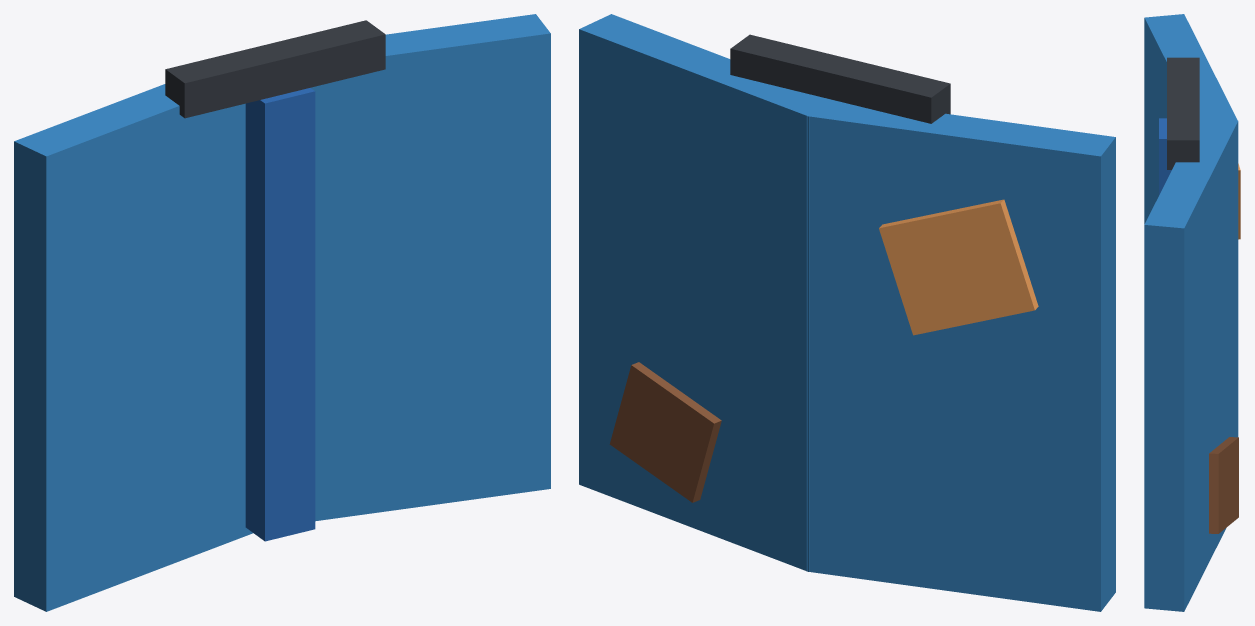
Rendered from FX_Scrap4_Hood.fbx.
3 views of the same model, side by side, from view 1: azimuth 30°, elevation 25°; view 2: azimuth 150°, elevation 25°; view 3: azimuth 270°, elevation 25° (orthographic). The views are drawn at different scales.
Parts seen in each view (by area): view 1: FX_Scrap4_Hood; view 2: FX_Scrap4_Hood; view 3: FX_Scrap4_Hood.
Part boxes in pixels (x1,y1,x2,y2): FX_Scrap4_Hood: (14, 14, 550, 611); FX_Scrap4_Hood: (579, 14, 1115, 611); FX_Scrap4_Hood: (1144, 14, 1240, 611).
Bounding box in the file's own units: 0.6234 × 0.55 × 0.1181.
